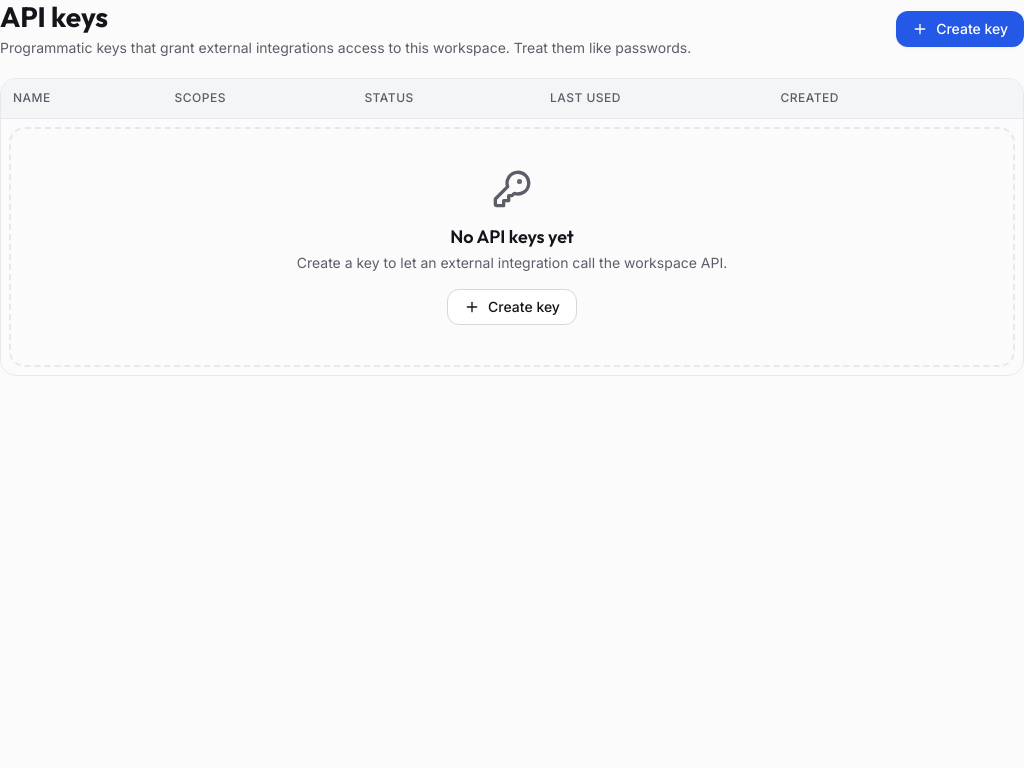
it: ApiKeysPage › opens the create dialog and validates an empty name
Note: Open the create dialog
Step 1. Click the 1st button "Create key" → coordinates (960, 29), box [896,11,1023,47]
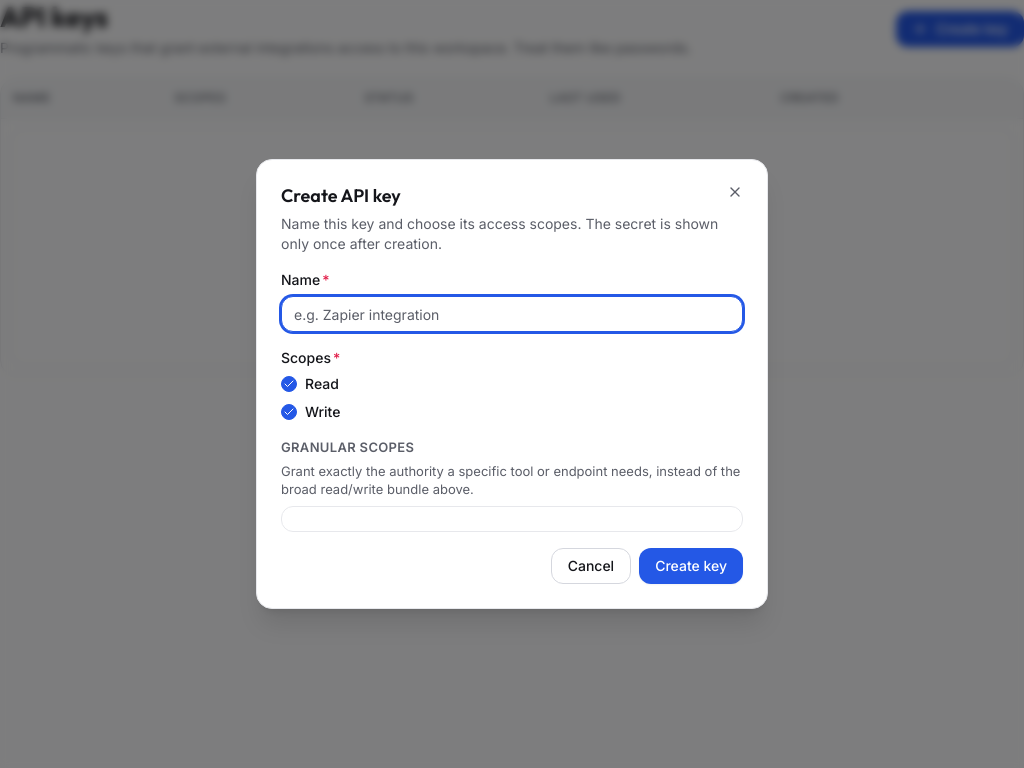
Result: the heading "Create API key" is shown at [281,184,401,207]
Note: Clear default name? It's empty by default — submit straight away.
Step 2. Click the button "Create key" → coordinates (691, 566), box [639,548,743,584]
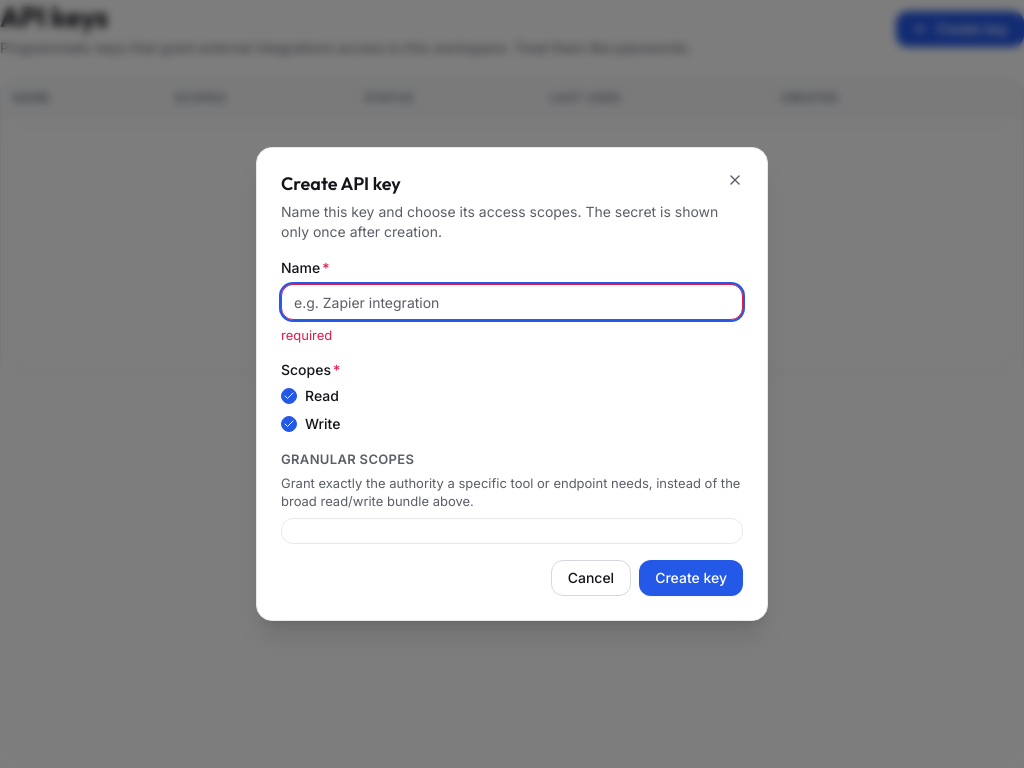
Result: the message "required" is shown at [281,327,332,343]
